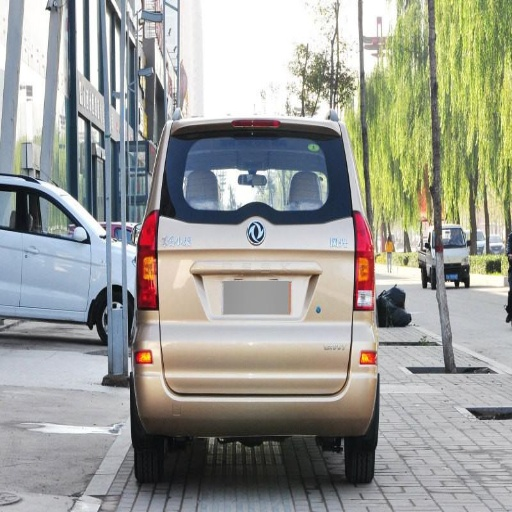back_bumper: (137, 361, 379, 438)
back_left_light: (134, 213, 158, 311)
trunk: (138, 215, 370, 396)
